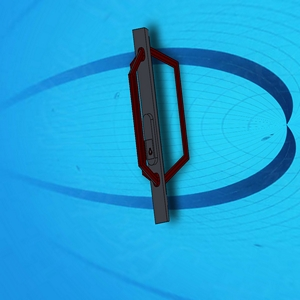submarine: (125, 26, 193, 226)
